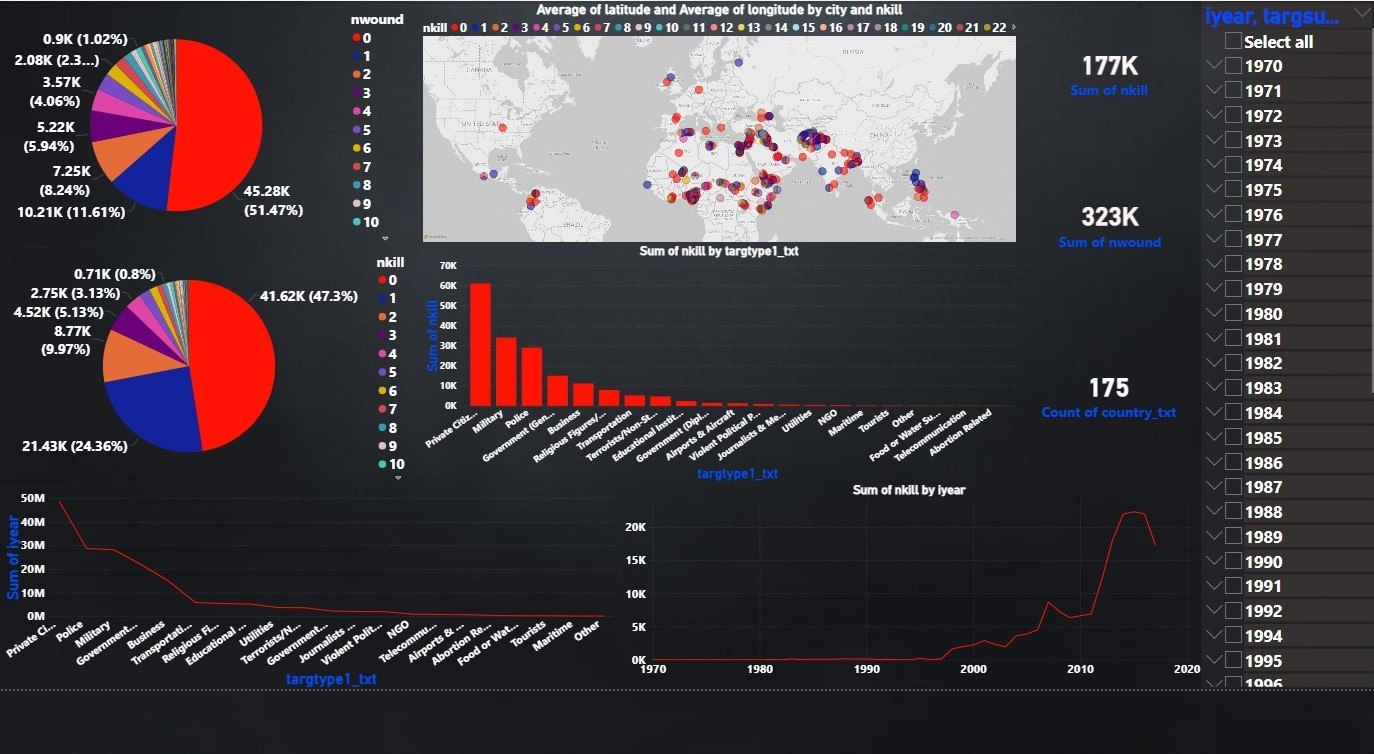

This screenshot's page, from the dashboard's own definition file:
{"tool":"powerbi","page":{"name":"Page 1","canvas":[4000,2000],"ordinal":0},"visuals":[{"type":"map","fields":{"Category":["Terrorism Final.city"],"Y":["Avg(Terrorism Final.latitude)"],"X":["Avg(Terrorism Final.longitude)"],"Series":["Terrorism Final.nkill"]},"box":[1224.6,0,1733.3,704.9],"z":0},{"type":"pieChart","fields":{"Category":["Terrorism Final.nwound"],"Y":["CountNonNull(Terrorism Final.city)"]},"box":[0,0,1222.8,703.5],"z":1000},{"type":"pieChart","fields":{"Category":["Terrorism Final.nkill"],"Y":["CountNonNull(Terrorism Final.city)"]},"box":[0,704.9,1224.6,694],"z":2000},{"type":"columnChart","fields":{"Category":["Terrorism Final.targtype1_txt"],"Y":["Sum(Terrorism Final.nkill)"]},"box":[1224.6,704.9,1733.3,694],"z":3000},{"type":"slicer","fields":{"Values":["Terrorism Final.iyear","Terrorism Final.targsubtype1_txt"]},"box":[3492,0,508.7,1998.6],"z":4000},{"type":"lineChart","fields":{"Category":["Terrorism Final.iyear"],"Y":["Sum(Terrorism Final.nkill)"]},"box":[1791.4,1399,1704.2,599.6],"z":5000},{"type":"card","fields":{"Values":["Sum(Terrorism Final.nkill)"]},"box":[2957.9,0,534.2,407],"z":6000},{"type":"card","fields":{"Values":["Sum(Terrorism Final.nwound)"]},"box":[2957.9,407,537.8,472.4],"z":7000},{"type":"card","fields":{"Values":["Count(Terrorism Final.country_txt)"]},"box":[2957.9,879.4,530.5,519.6],"z":8000},{"type":"lineChart","fields":{"Category":["Terrorism Final.targtype1_txt"],"Y":["Sum(Terrorism Final.iyear)"]},"box":[0,1399,1791.4,599.6],"z":9000}]}

Visuals, with their boxes on the page's 4000x2000 design canvas (x1, y1, x2, y2). These are canvas units, not pixel positions in the 1374x754 screenshot, which may show the page scaled, cropped or inside an application window:
map - Terrorism Final.city x Avg(Terrorism Final.latitude): {"left": 1225, "top": 0, "right": 2958, "bottom": 705}
pieChart - Terrorism Final.nwound x CountNonNull(Terrorism Final.city): {"left": 0, "top": 0, "right": 1223, "bottom": 704}
pieChart - Terrorism Final.nkill x CountNonNull(Terrorism Final.city): {"left": 0, "top": 705, "right": 1225, "bottom": 1399}
columnChart - Terrorism Final.targtype1_txt x Sum(Terrorism Final.nkill): {"left": 1225, "top": 705, "right": 2958, "bottom": 1399}
slicer - Terrorism Final.iyear x Terrorism Final.targsubtype1_txt: {"left": 3492, "top": 0, "right": 4001, "bottom": 1999}
lineChart - Terrorism Final.iyear x Sum(Terrorism Final.nkill): {"left": 1791, "top": 1399, "right": 3496, "bottom": 1999}
card - Sum(Terrorism Final.nkill): {"left": 2958, "top": 0, "right": 3492, "bottom": 407}
card - Sum(Terrorism Final.nwound): {"left": 2958, "top": 407, "right": 3496, "bottom": 879}
card - Count(Terrorism Final.country_txt): {"left": 2958, "top": 879, "right": 3488, "bottom": 1399}
lineChart - Terrorism Final.targtype1_txt x Sum(Terrorism Final.iyear): {"left": 0, "top": 1399, "right": 1791, "bottom": 1999}
